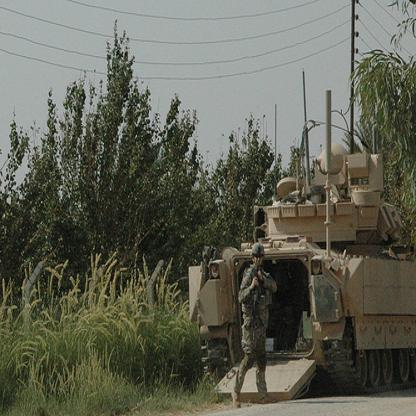Tank: (183, 123, 416, 401)
